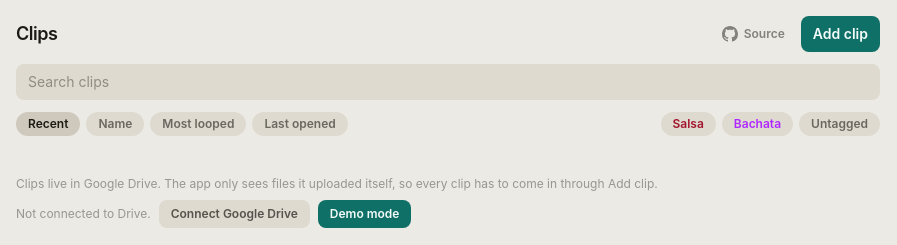
the Drive session on the Clips screen › says Drive is connected once the dancer has signed in
What coordinates should you click on to do the following:
click the button "Connect Google Drive"
I would click on:
 (234, 214)
Its box is [159,200,310,228].
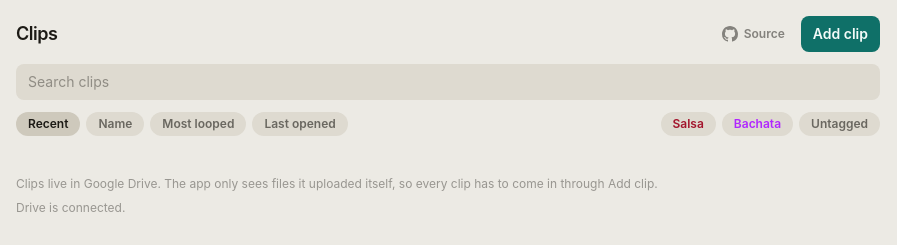
Check: the text "Drive is connected." is shown, box [16,200,125,216]
